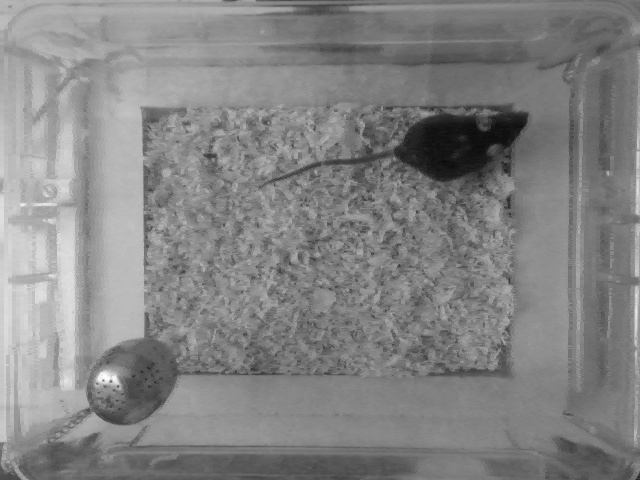mice: (260, 107, 535, 189)
